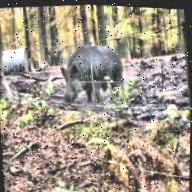boar: (56, 39, 126, 109)
